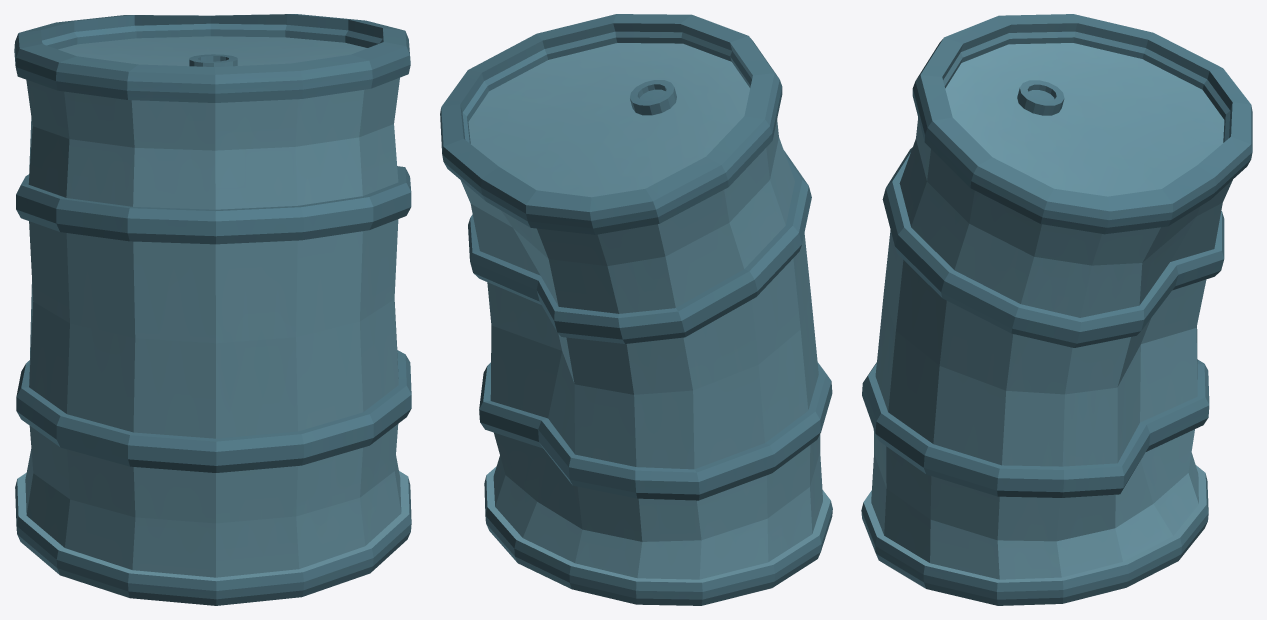
Rendered from barrel_damaged_blue.glb.
The picture shows the model from 3 angles, left to right: view 1: azimuth 30°, elevation 25°; view 2: azimuth 150°, elevation 25°; view 3: azimuth 270°, elevation 25°; orthographic projection. The views are drawn at different scales.
Visible parts, largest first — view 1: barrel_damaged_blue; view 2: barrel_damaged_blue; view 3: barrel_damaged_blue.
Part boxes in pixels (x1,y1,x2,y2): barrel_damaged_blue: (14, 14, 411, 605); barrel_damaged_blue: (440, 14, 832, 605); barrel_damaged_blue: (861, 14, 1252, 605).
Bounding box in the file's own units: 0.7279 × 0.962 × 0.7231.
1 material, 1 textured.
